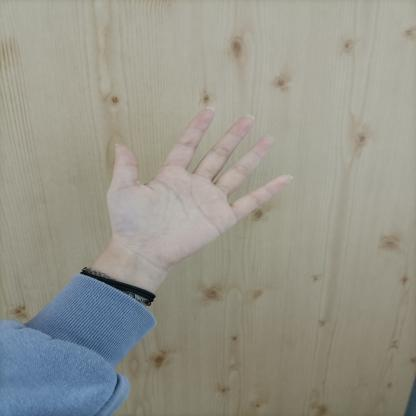bare_hand: (95, 99, 301, 279)
